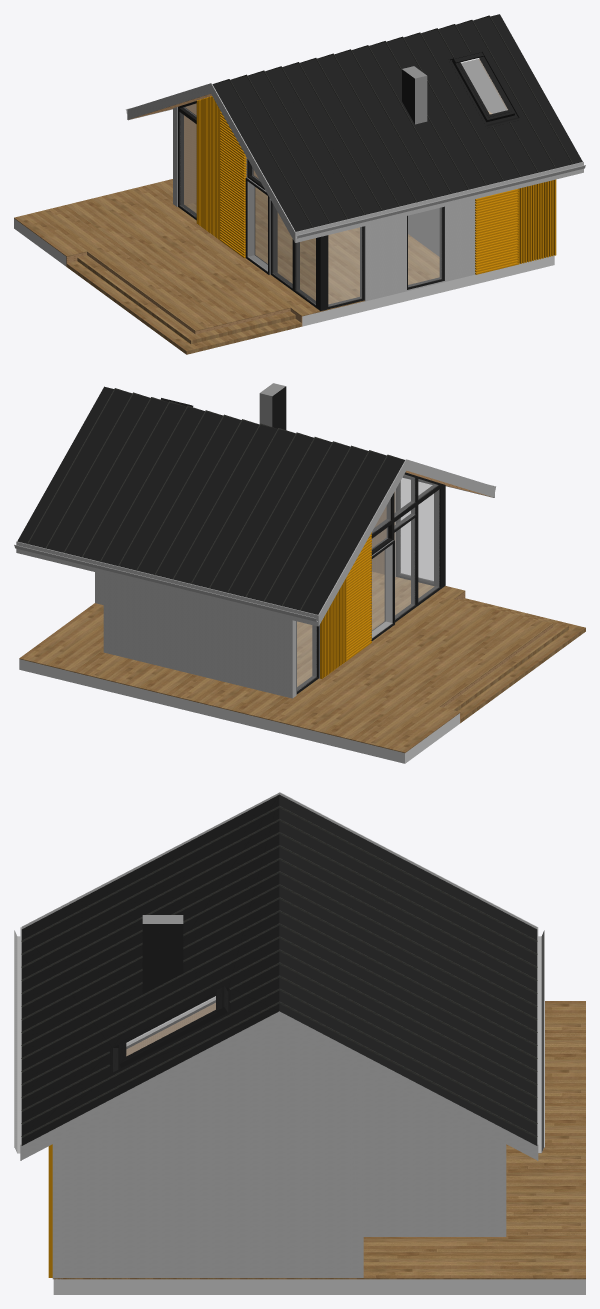
Rendered from Module1.glb.
The picture shows the model from 3 angles, top to bottom: view 1: azimuth 30°, elevation 25°; view 2: azimuth 150°, elevation 25°; view 3: azimuth 270°, elevation 25°; orthographic projection. The views are drawn at different scales.
Parts seen in each view (by area): view 1: Черный, Новый материал (по умолчанию), Штукатурка, Мягкая древесина, пиломатериалы, Стекло, Сталь ASTM A36, Бетон - Железобетон, Дерево стены внутренние, Стена по умолчанию; view 2: Черный, Новый материал (по умолчанию), Штукатурка, Стекло, Бетон - Железобетон, Сталь ASTM A36, Мягкая древесина, пиломатериалы, Стена по умолчанию, Дерево стены внутренние; view 3: Черный, Штукатурка, Новый материал (по умолчанию), Сталь ASTM A36, Бетон - Железобетон, Стекло, Дерево стены внутренние, Мягкая древесина, пиломатериалы.
Boxes of the visible parts, left/top/right/bottom form: Черный: left=178, top=14, right=582, bottom=311; Новый материал (по умолчанию): left=14, top=111, right=491, bottom=354; Штукатурка: left=126, top=59, right=585, bottom=301; Мягкая древесина, пиломатериалы: left=196, top=96, right=556, bottom=274; Стекло: left=180, top=58, right=507, bottom=306; Сталь ASTM A36: left=214, top=15, right=572, bottom=227; Бетон - Железобетон: left=14, top=218, right=554, bottom=326; Дерево стены внутренние: left=66, top=59, right=507, bottom=334; Стена по умолчанию: left=177, top=66, right=444, bottom=300; Черный: left=17, top=386, right=445, bottom=694; Новый материал (по умолчанию): left=19, top=571, right=585, bottom=752; Штукатурка: left=14, top=459, right=496, bottom=698; Стекло: left=297, top=474, right=439, bottom=690; Бетон - Железобетон: left=19, top=659, right=459, bottom=763; Сталь ASTM A36: left=27, top=388, right=404, bottom=610; Мягкая древесина, пиломатериалы: left=320, top=532, right=371, bottom=678; Стена по умолчанию: left=259, top=383, right=395, bottom=678; Дерево стены внутренние: left=371, top=470, right=553, bottom=723; Черный: left=21, top=794, right=537, bottom=1145; Штукатурка: left=14, top=792, right=544, bottom=1279; Новый материал (по умолчанию): left=53, top=1001, right=585, bottom=1279; Сталь ASTM A36: left=21, top=806, right=537, bottom=1137; Бетон - Железобетон: left=53, top=1279, right=585, bottom=1294; Стекло: left=126, top=996, right=215, bottom=1055; Дерево стены внутренние: left=126, top=1003, right=215, bottom=1055; Мягкая древесина, пиломатериалы: left=48, top=1144, right=52, bottom=1277.
Size of the model in its own units: 11.15 by 5.35 by 9.27.
Materials: 15 (9 with a texture image).
